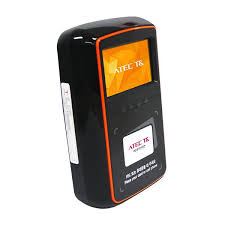terminal: (55, 14, 171, 212)
